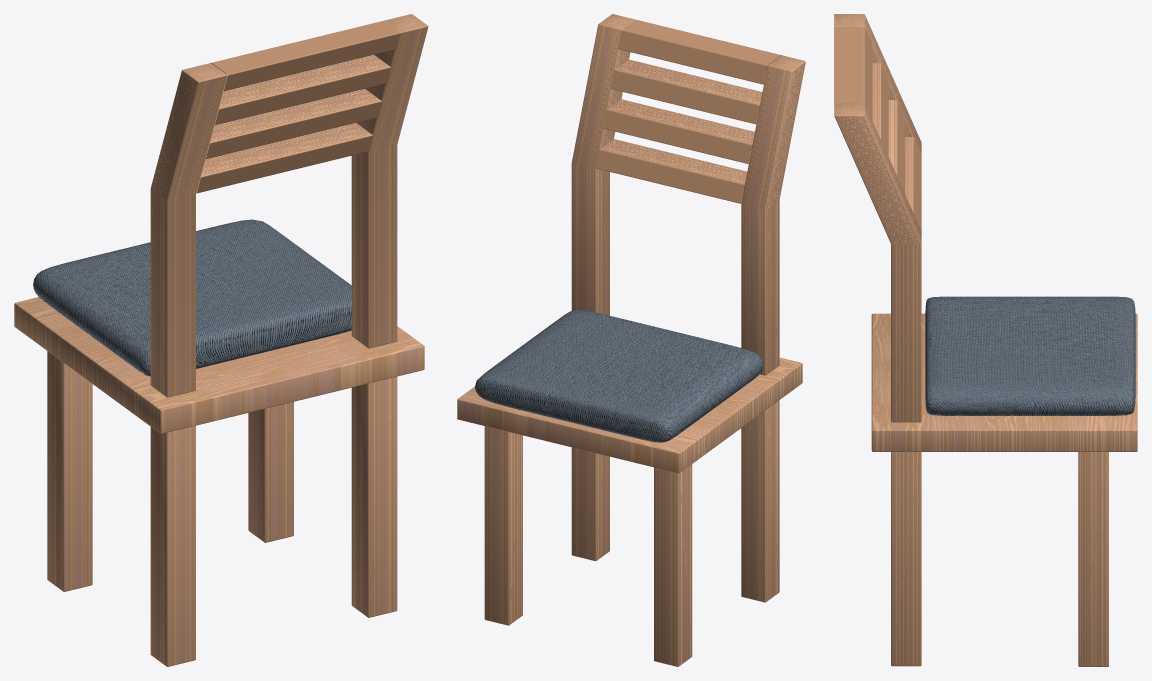
File: Silla Para Comer.fbx
3 renders of one model, left to right at view 1: azimuth 30°, elevation 25°; view 2: azimuth 150°, elevation 25°; view 3: azimuth 270°, elevation 25°, orthographic. The views are drawn at different scales.
Parts seen in each view (by area): view 1: Silla; view 2: Silla; view 3: Silla.
Boxes of the visible parts, left/top/right/bottom form: Silla: left=14, top=14, right=428, bottom=666; Silla: left=457, top=14, right=805, bottom=666; Silla: left=834, top=14, right=1137, bottom=666.
Size of the model in its own units: 44.77 by 98.63 by 49.17.
Materials: 2 (2 with a texture image).
